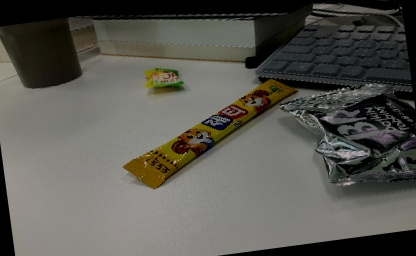br: (274, 73, 416, 208)
jeli: (143, 60, 187, 97)
jt: (112, 73, 311, 194)
